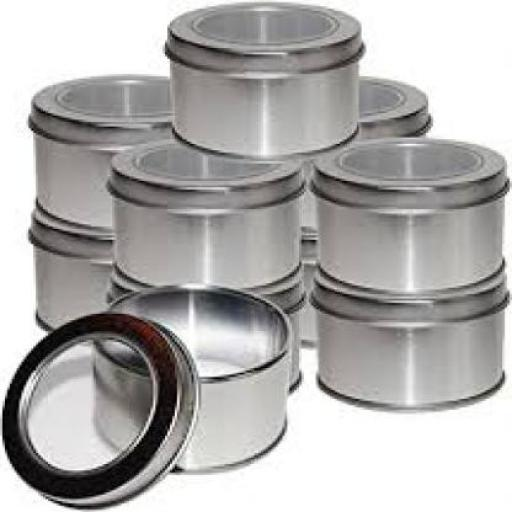metal: (6, 310, 204, 508), (95, 281, 295, 471), (318, 134, 510, 305), (174, 0, 366, 159), (114, 137, 304, 290), (110, 266, 304, 390), (321, 281, 510, 407), (39, 74, 179, 240), (304, 78, 431, 236), (38, 220, 129, 334), (301, 229, 318, 345)
